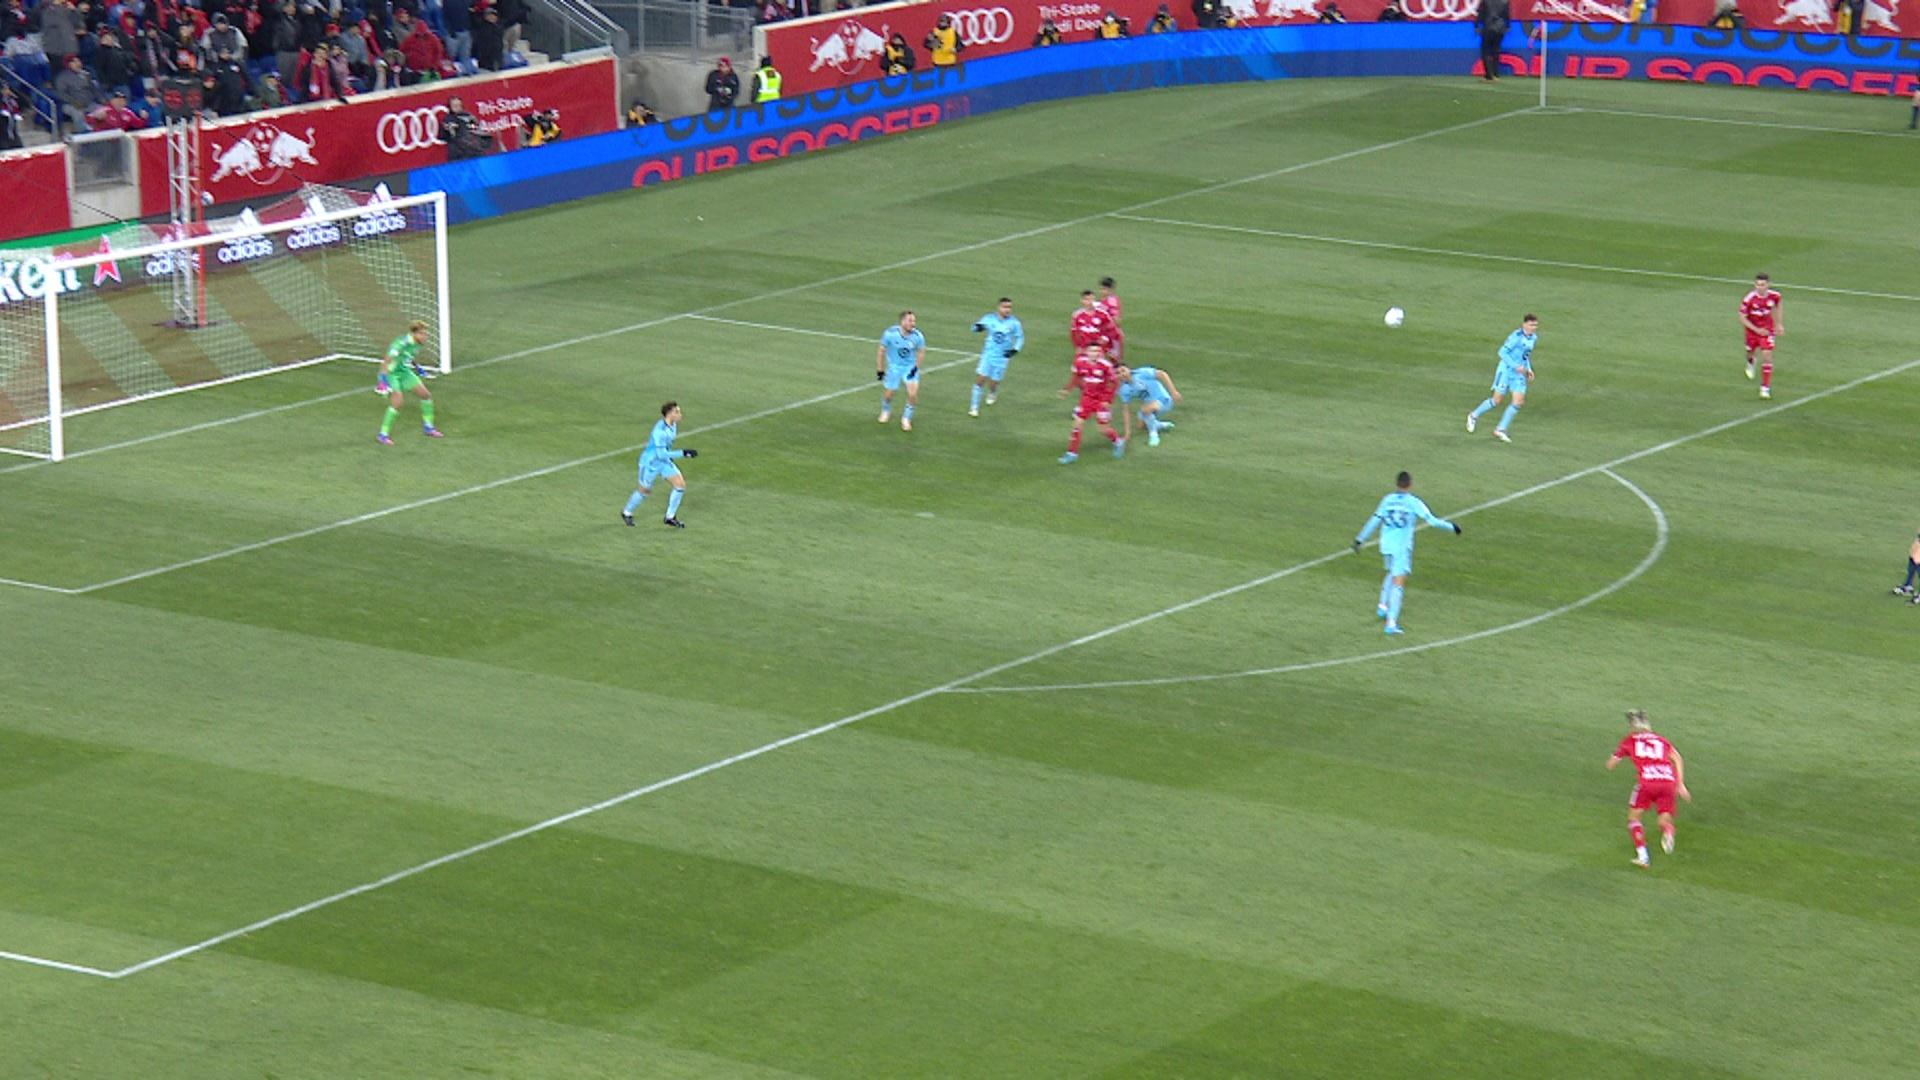football: (1382, 305, 1407, 331)
